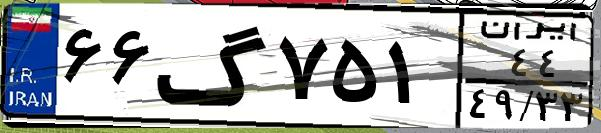1: (385, 28, 445, 110)
3: (560, 70, 590, 125), (535, 70, 560, 125)
4: (537, 27, 568, 80), (508, 27, 537, 80), (470, 70, 495, 125)
5: (330, 28, 385, 110)
6: (57, 26, 110, 100), (110, 28, 156, 98)
7: (270, 28, 330, 110)
9: (495, 70, 520, 125)
گ: (156, 12, 270, 120)
